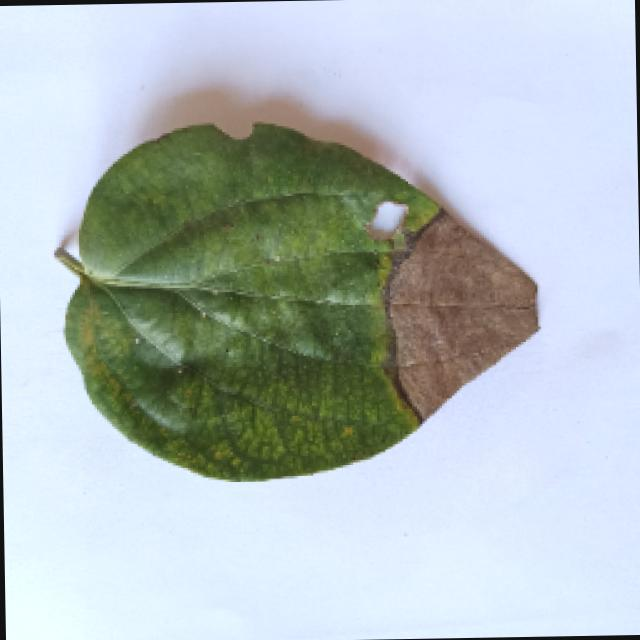footrot: (39, 96, 578, 494)
